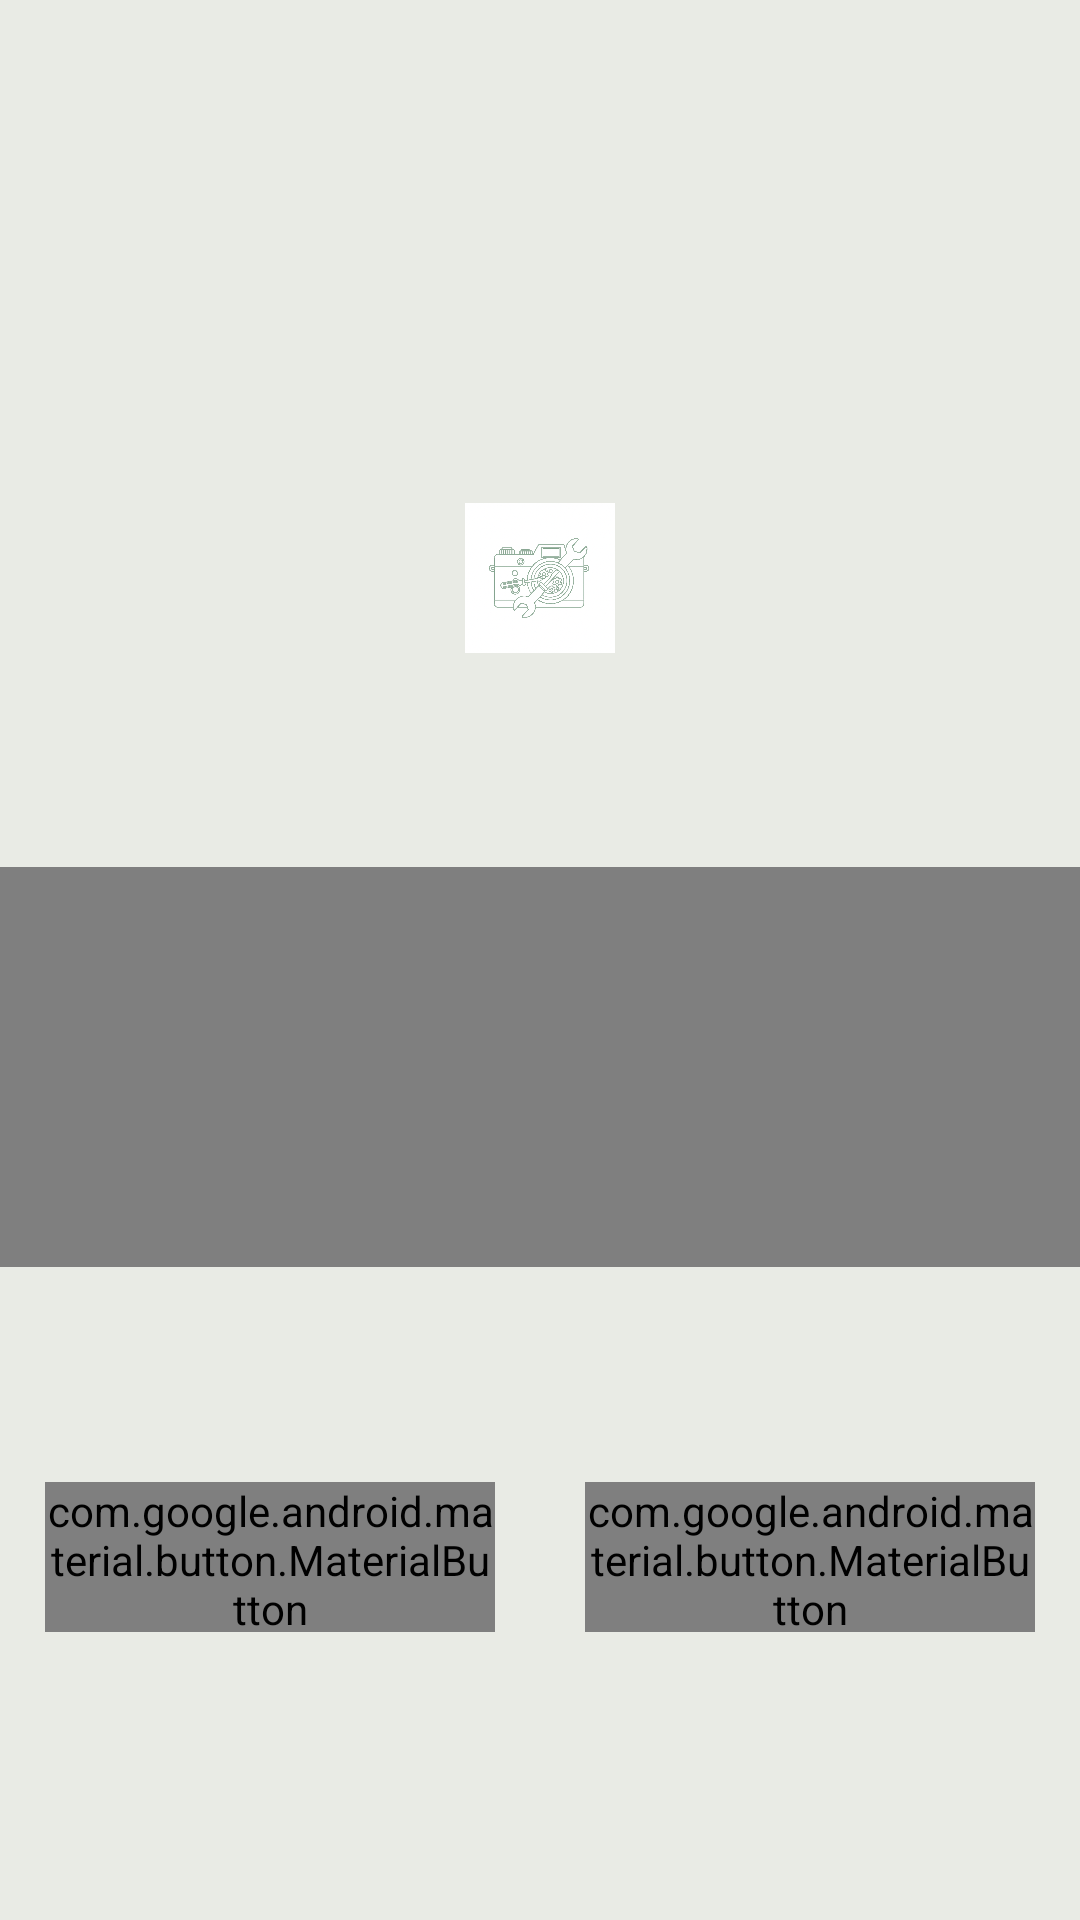

Where to tap for icons on this 1080 × 1920 app screen, as (x=x, y=y):
camera permission: (x=540, y=578)
